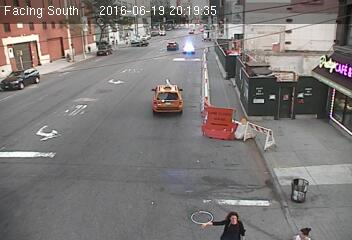neg: (5, 43, 34, 82), (163, 78, 187, 110), (178, 34, 200, 63), (155, 78, 173, 103)
pos: (215, 201, 244, 239), (297, 221, 311, 239)
